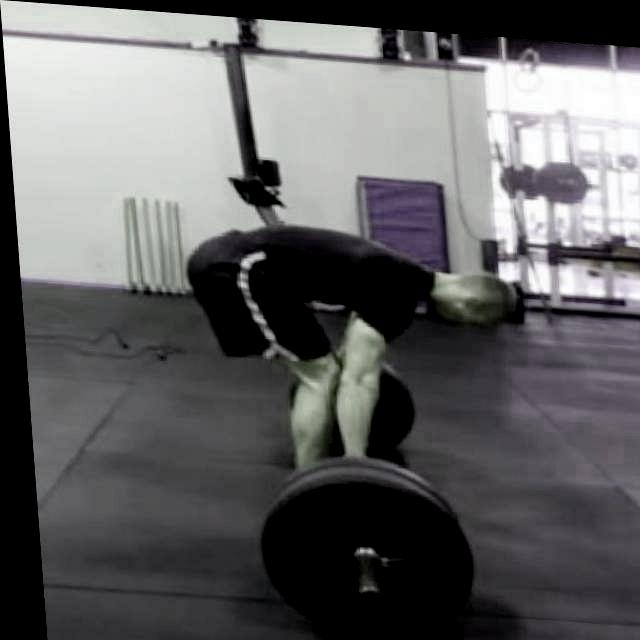barbell: (241, 457, 475, 640)
